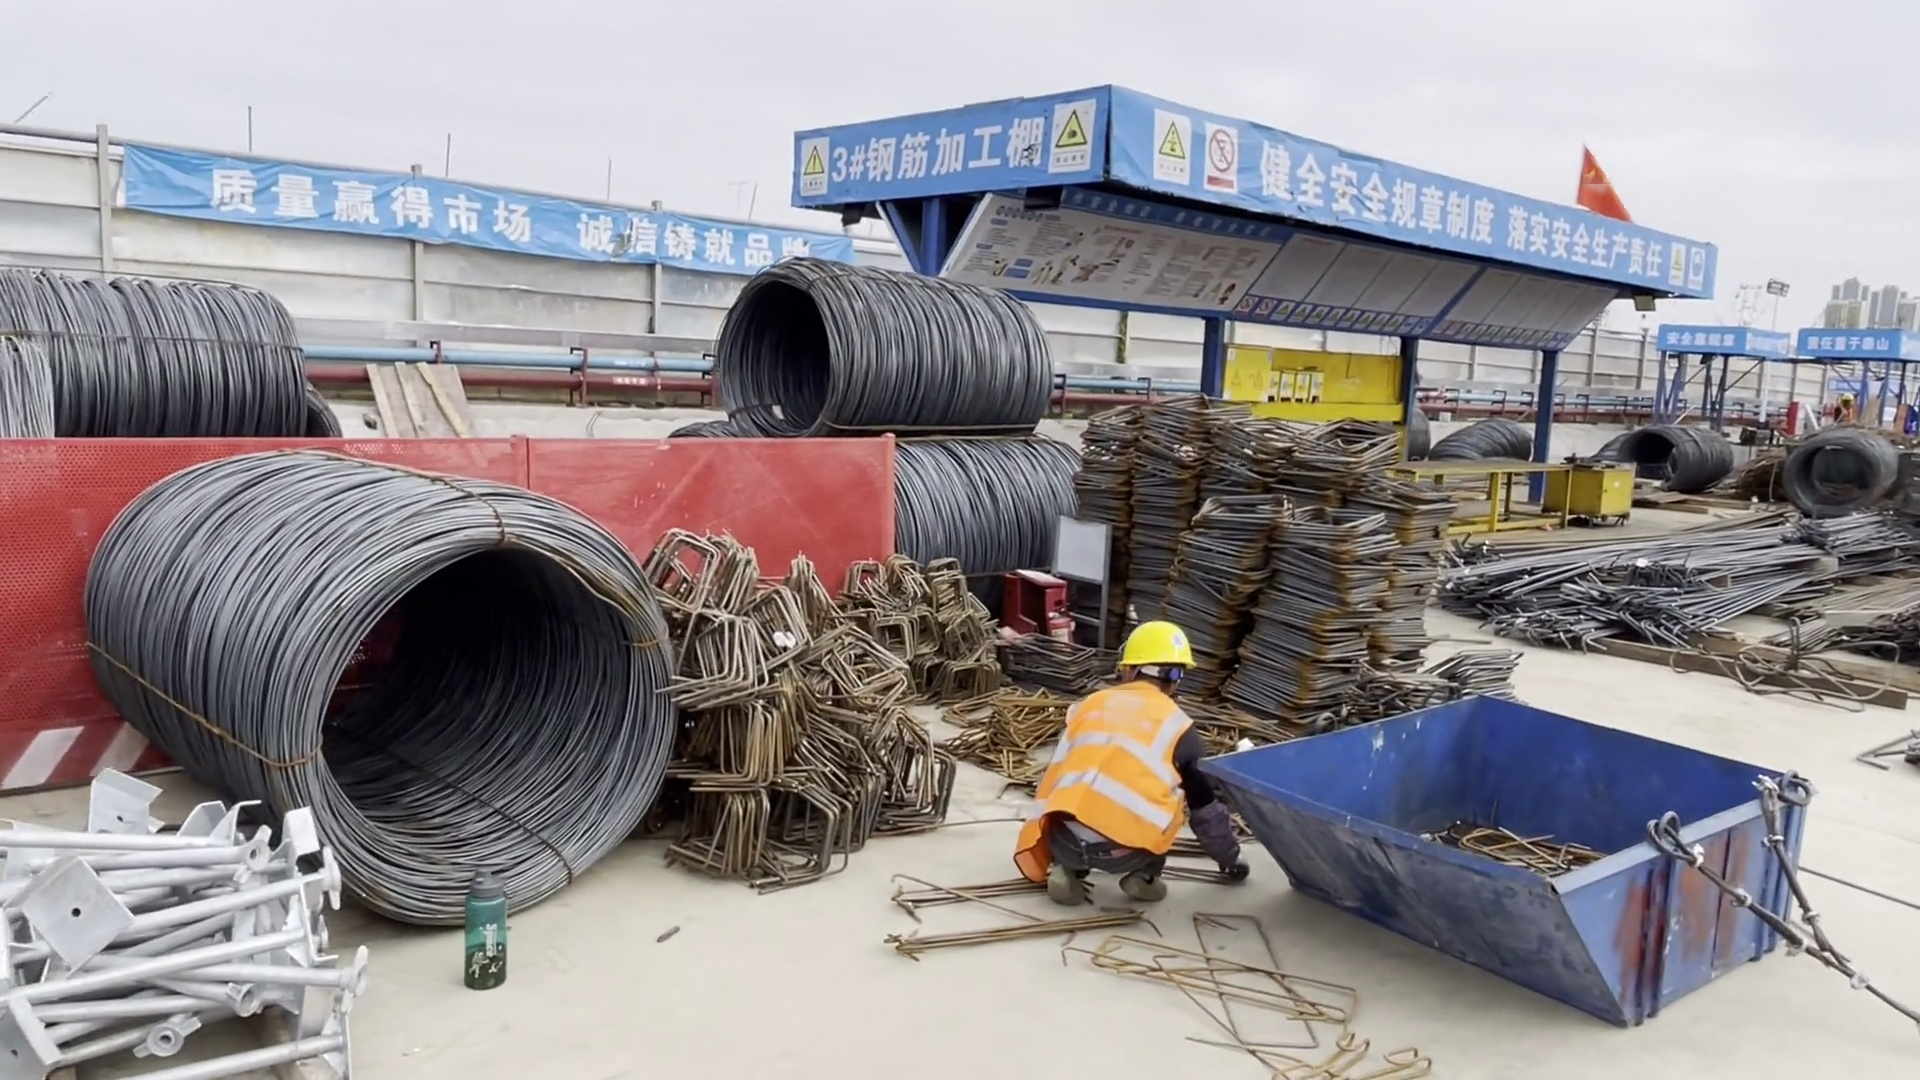ebox: (1225, 341, 1325, 407), (1567, 448, 1638, 533)
fence: (1, 153, 798, 372)
helmet: (1115, 613, 1194, 669), (1841, 391, 1855, 399)
hopper: (1205, 699, 1821, 1027)
person: (1024, 615, 1224, 917), (1833, 388, 1862, 431)
slogan: (1143, 116, 1679, 287), (204, 200, 806, 275), (797, 115, 1111, 193), (1808, 326, 1906, 362), (1673, 328, 1736, 346)
vest: (1061, 693, 1182, 848), (1839, 408, 1854, 424)
